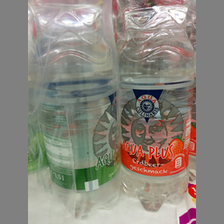water: (33, 1, 120, 219), (112, 1, 196, 212)
